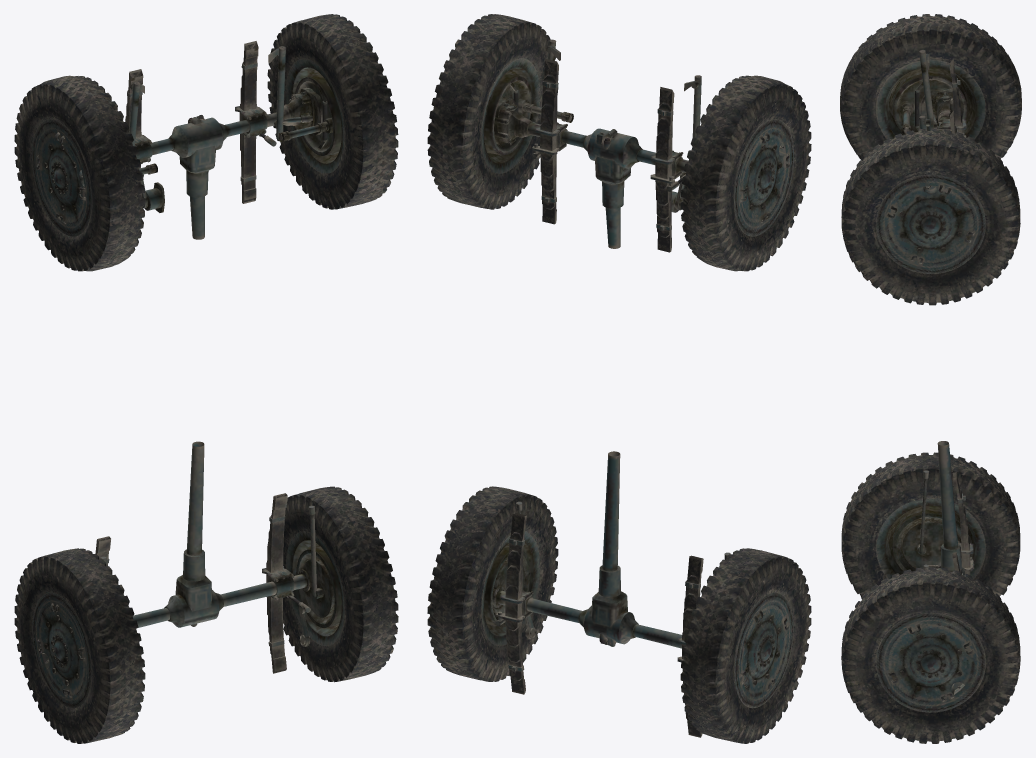
File: Chassis.glb
The picture shows the model from 3 angles, left to right: view 1: azimuth 30°, elevation 25°; view 2: azimuth 150°, elevation 25°; view 3: azimuth 270°, elevation 25°; orthographic projection. The views are drawn at different scales.
Visible parts, largest first — view 1: set_0_group_0, set_0_group_1, set_1_group_1, set_1_group_0; view 2: set_0_group_0, set_0_group_1, set_1_group_1, set_1_group_0; view 3: set_1_group_1, set_0_group_1, set_1_group_0, set_0_group_0.
Boxes of the visible parts, box(x1,y1,x2,y2) form: set_0_group_0: box(32, 41, 341, 708); set_0_group_1: box(14, 75, 145, 743); set_1_group_1: box(267, 14, 398, 682); set_1_group_0: box(285, 58, 344, 646); set_0_group_0: box(484, 39, 793, 737); set_0_group_1: box(680, 75, 811, 743); set_1_group_1: box(427, 14, 558, 681); set_1_group_0: box(481, 58, 540, 645); set_1_group_1: box(841, 128, 1020, 743); set_0_group_1: box(840, 14, 1021, 599); set_1_group_0: box(876, 174, 985, 712); set_0_group_0: box(876, 49, 985, 579).
Size of the model in its own units: 2.07 by 4.3 by 1.18.
Materials: 4 (4 with a texture image).
